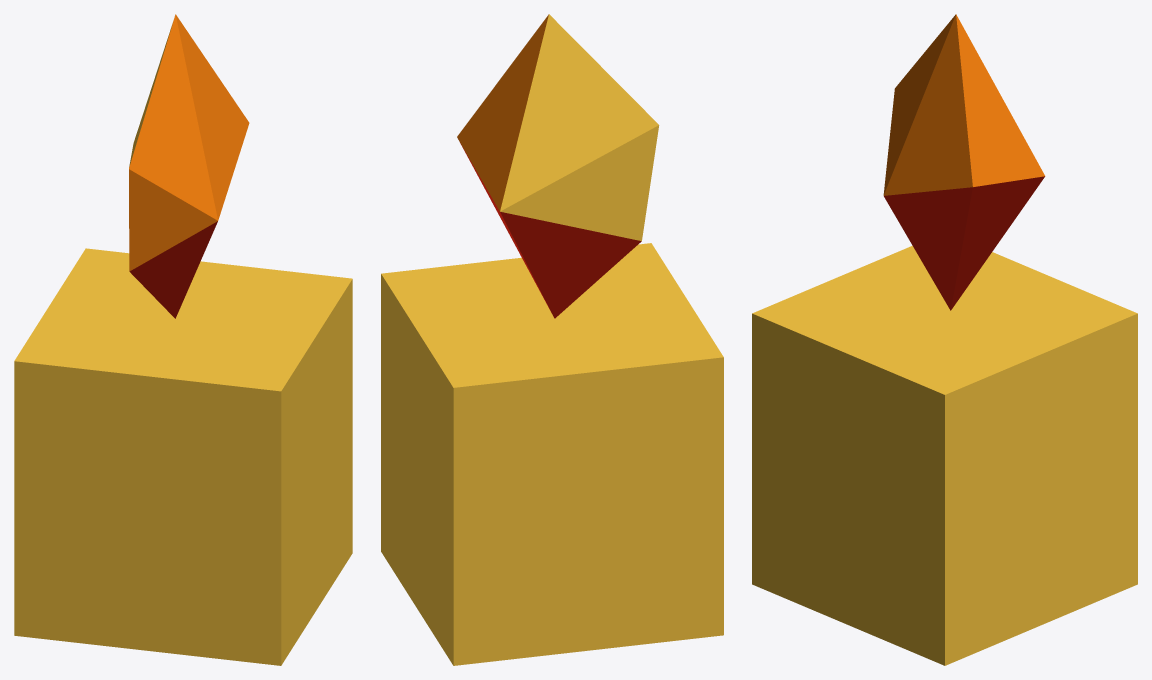
3 views of the same model, side by side, from view 1: azimuth 30°, elevation 25°; view 2: azimuth 150°, elevation 25°; view 3: azimuth 270°, elevation 25° (orthographic). The views are drawn at different scales.
Parts seen in each view (by area): view 1: Cylinder101; view 2: Cylinder101; view 3: Cylinder101.
Part boxes in pixels (x1=…): Cylinder101: x1=14, y1=14, x2=352, y2=665; Cylinder101: x1=381, y1=14, x2=723, y2=665; Cylinder101: x1=752, y1=14, x2=1137, y2=665.
Size of the model in its own units: 0.0765 by 0.1245 by 0.0765.
